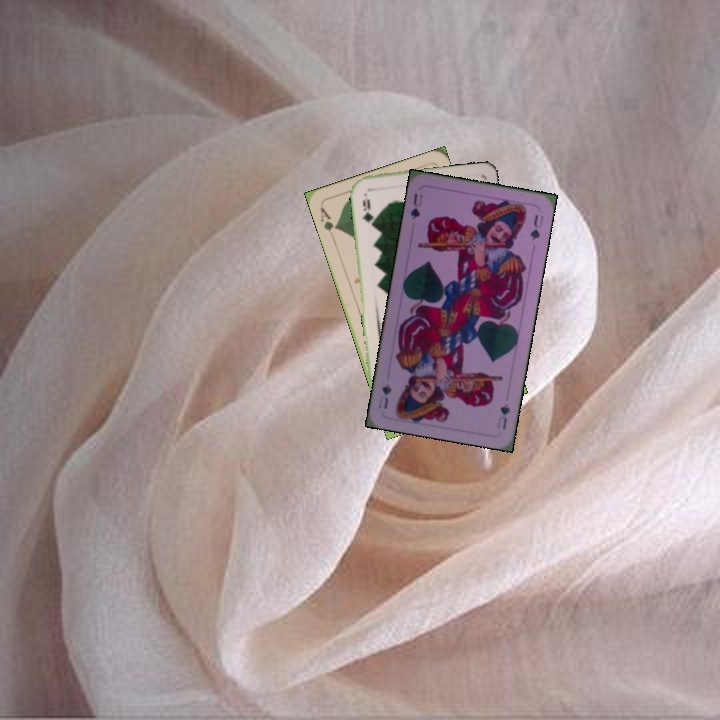G9: (358, 189, 376, 229)
GA: (316, 203, 340, 242)
GU: (406, 189, 425, 223), (493, 400, 512, 432)
